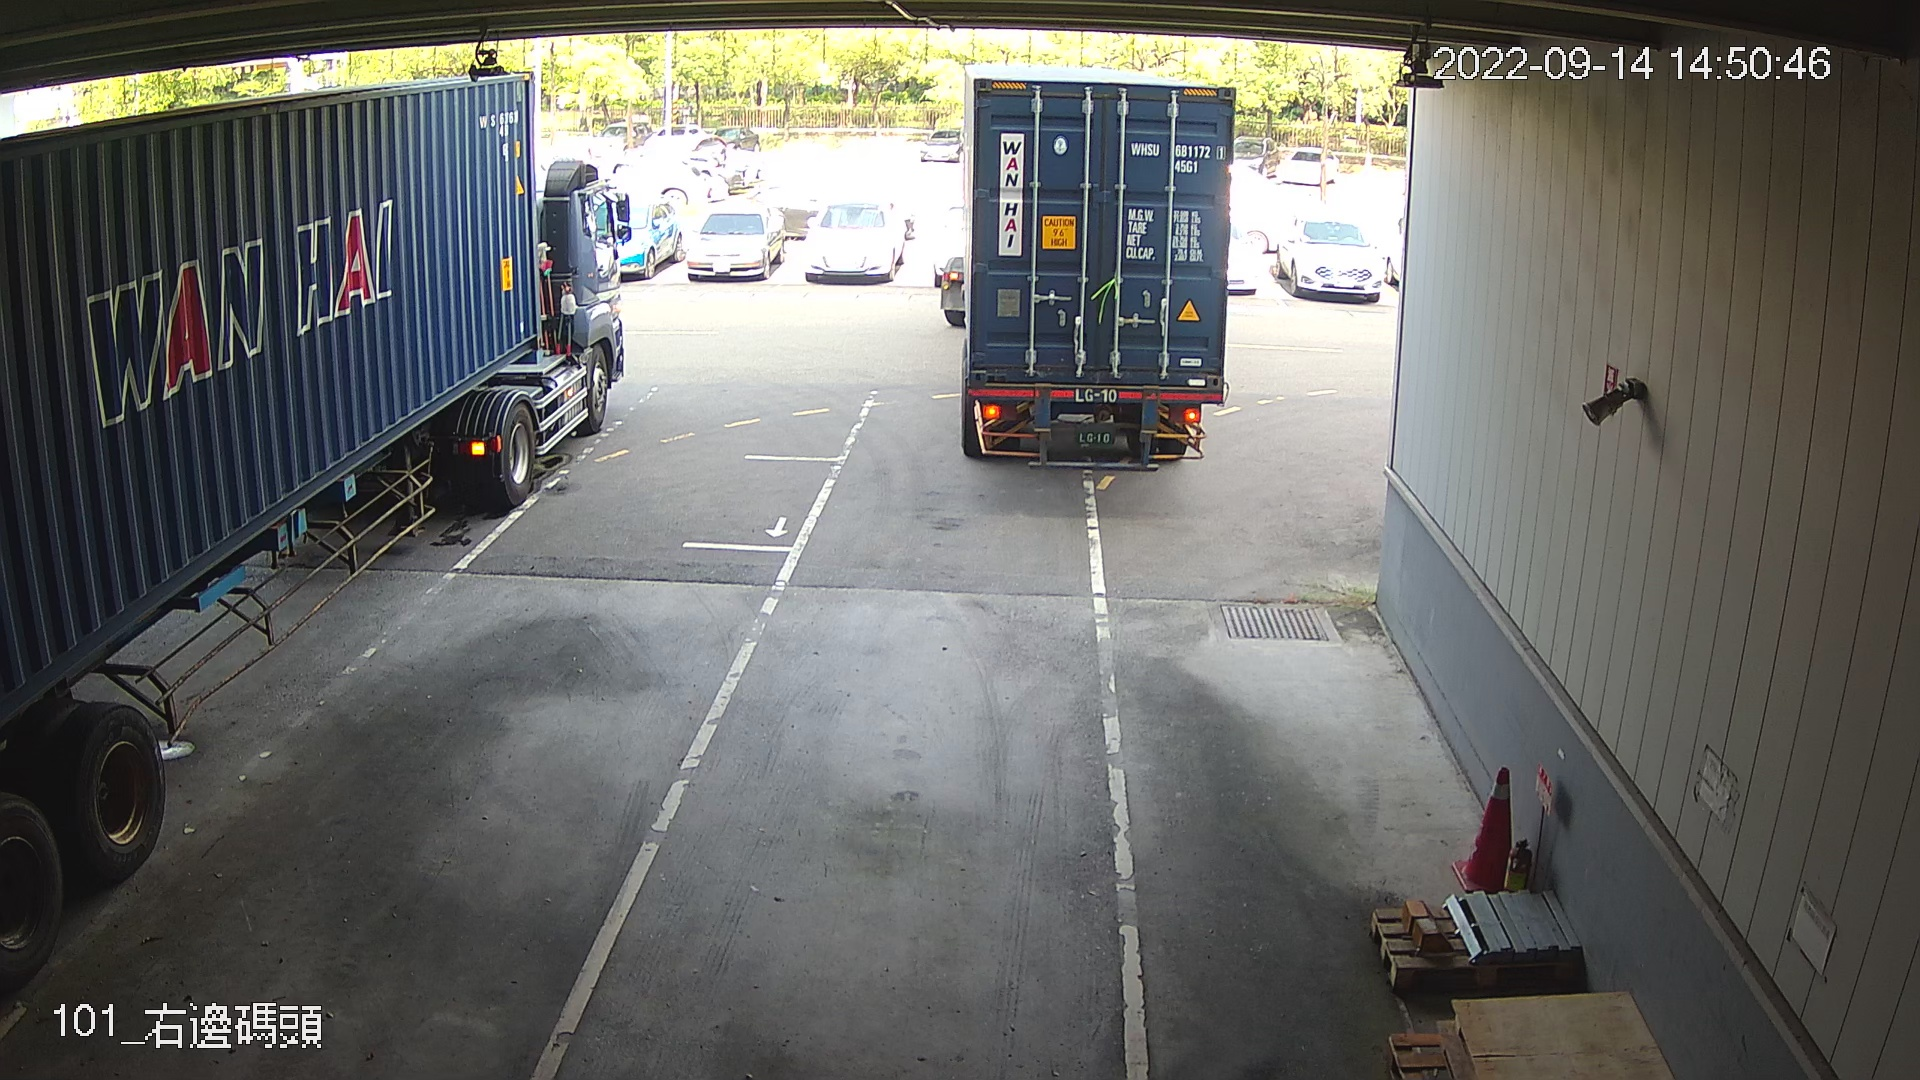container: (1127, 135, 1232, 177)
